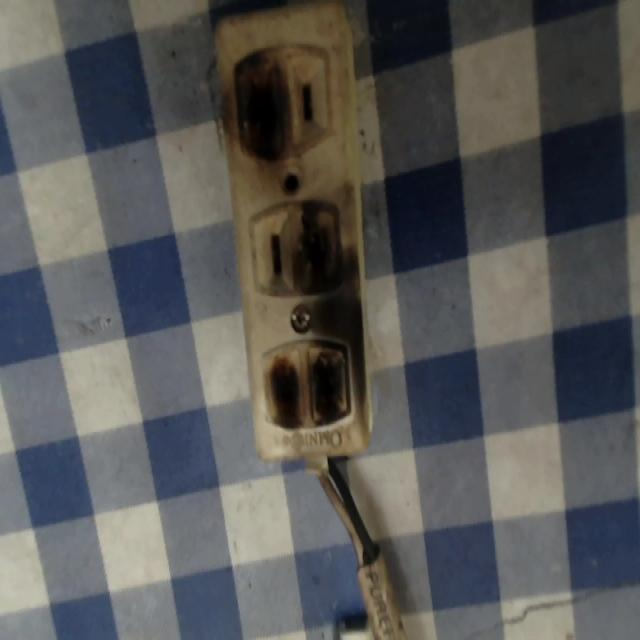-: (252, 336, 357, 437), (227, 35, 296, 168), (291, 197, 350, 304)
